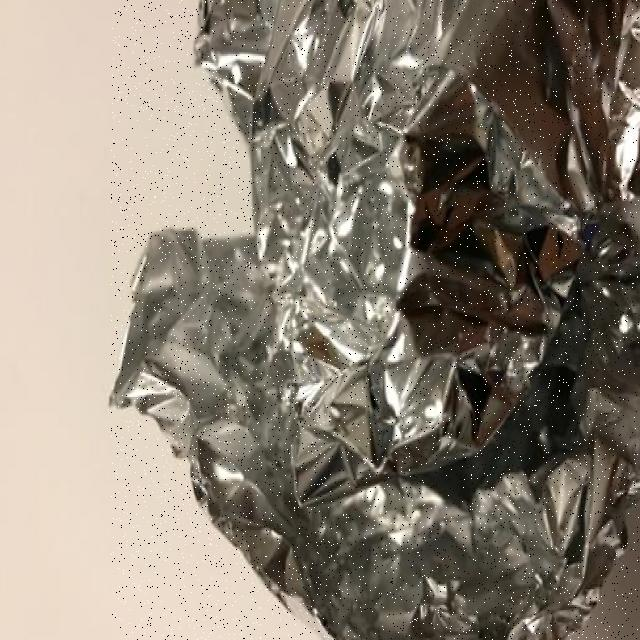metal: (112, 0, 640, 640)
